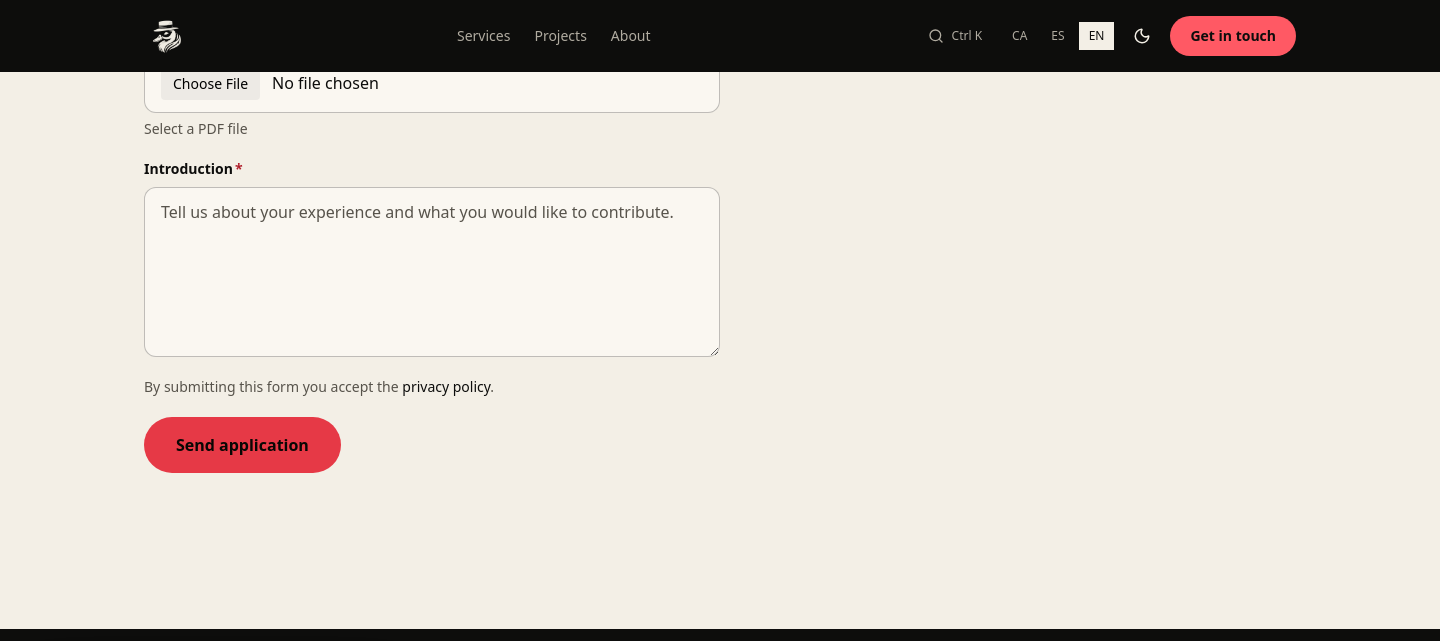
it: careers form › validates required fields and the custom role
(page scrolled)
Click the button "Send application" at (242, 445), box x1=144 y1=417 x2=341 y2=473
(page scrolled)
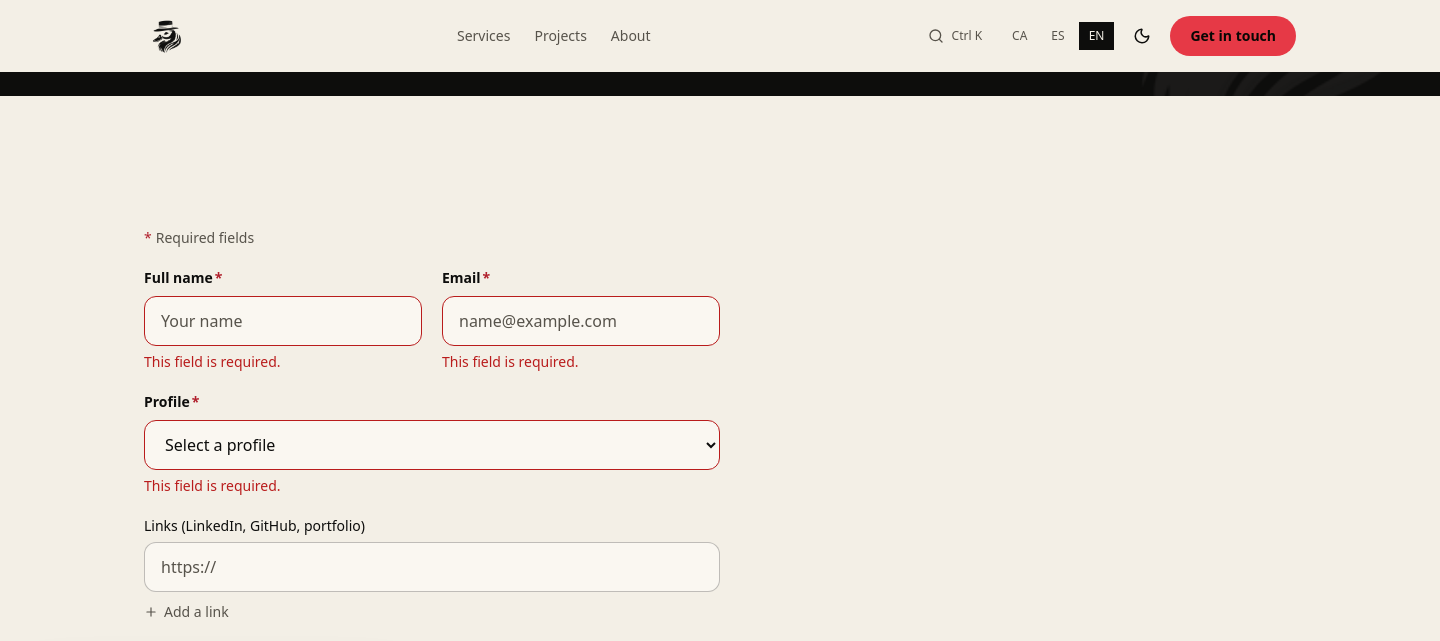
Select "Other" in the dropdown labelled "Profile" at (432, 445), box x1=144 y1=420 x2=720 y2=470
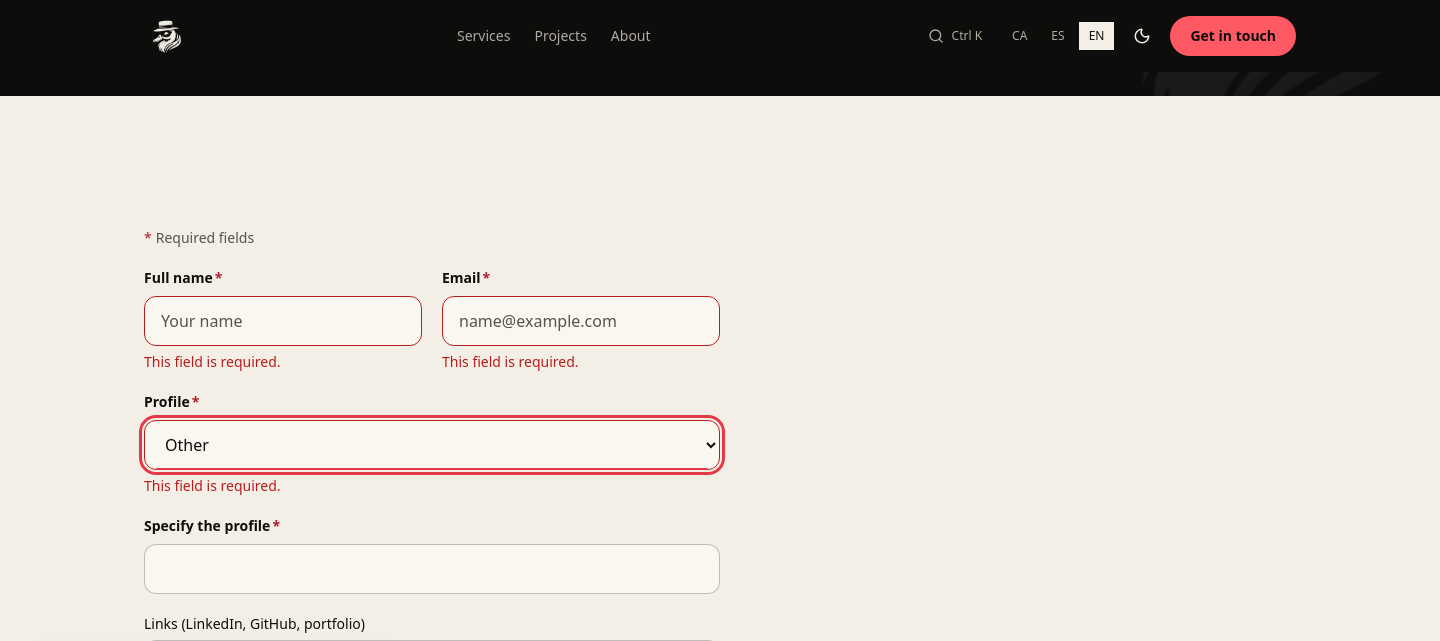
Result: the field labelled "Specify the profile" is shown at x1=144 y1=544 x2=720 y2=594
